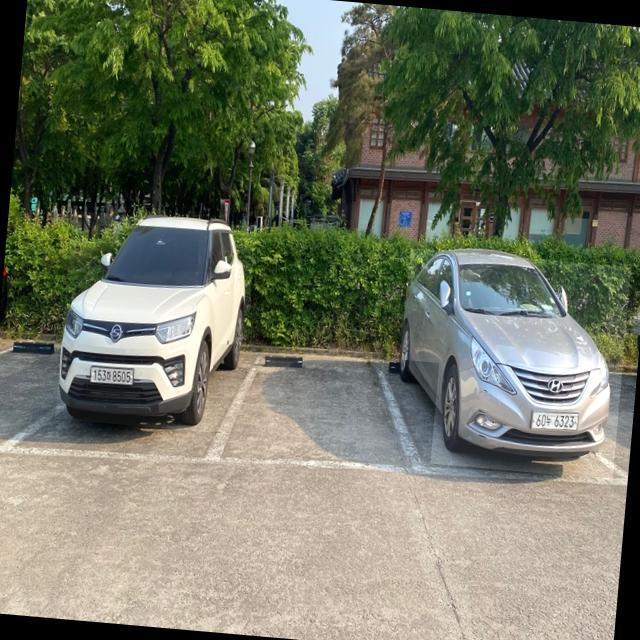empty: (205, 352, 429, 478)
occupied: (392, 248, 630, 479), (55, 210, 256, 434)
